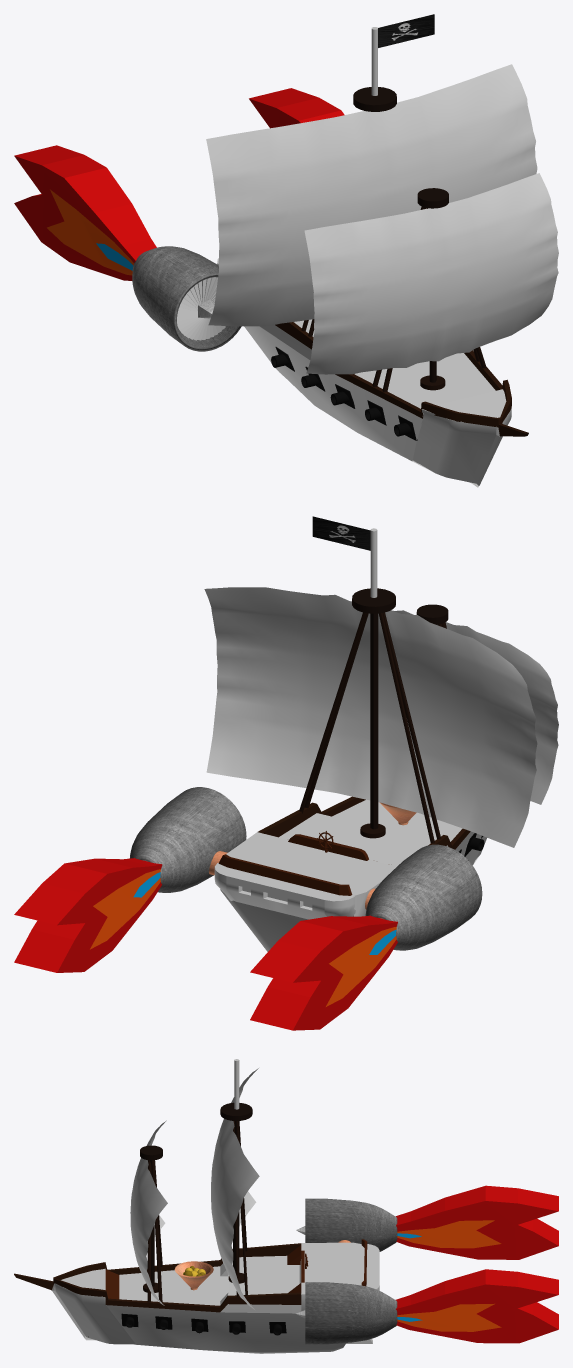
File: ship.obj
3 views of the same model, one above another, from view 1: azimuth 30°, elevation 25°; view 2: azimuth 150°, elevation 25°; view 3: azimuth 270°, elevation 25° (orthographic). The views are drawn at different scales.
Parts seen in each view (by area): view 1: pPlane14, pPlane13, boatBase, pPlane16, pCube109, pPlane15, pPipe118, pCube110, pCube2, pPlane8, pCylinder46, pCylinder4; view 2: pPlane14, pPlane16, boatBase, pCube109, pCube110, pPipe118, pPipe117, pPlane13, pCube20, pCylinder47, pCube8, pPlane15 (+7 smaller); view 3: boatBase, pCube110, pCube109, pPipe117, pPlane14, pPipe118, pPlane13, pPlane16, pCube2, pPlane15, pCube20, pCone3 (+3 smaller).
Part boxes in pixels (box(x1,y1,x2,y2)): pPlane14: box(206, 64, 537, 326); pPlane13: box(304, 173, 558, 374); boatBase: box(244, 319, 528, 487); pPlane16: box(207, 64, 536, 326); pCube109: box(14, 145, 156, 280); pPlane15: box(305, 174, 558, 374); pPipe118: box(132, 246, 241, 351); pCube110: box(249, 88, 344, 128); pCube2: box(421, 379, 511, 427); pPlane8: box(378, 16, 434, 47); pCylinder46: box(353, 87, 396, 111); pCylinder4: box(417, 188, 448, 208); pPlane14: box(204, 587, 537, 847); pPlane16: box(207, 587, 536, 845); boatBase: box(220, 796, 486, 951); pCube109: box(250, 915, 397, 1030); pCube110: box(14, 858, 162, 972); pPipe118: box(365, 844, 482, 950); pPipe117: box(129, 787, 246, 892); pPlane13: box(393, 610, 558, 804); pCube20: box(214, 863, 355, 919); pCylinder47: box(370, 613, 378, 829); pCube8: box(218, 854, 352, 895); pPlane15: box(397, 611, 558, 803); boatBase: box(14, 1242, 367, 1353); pCube110: box(396, 1269, 558, 1343); pCube109: box(396, 1185, 558, 1259); pPipe117: box(305, 1282, 397, 1344); pPlane14: box(211, 1068, 259, 1309); pPipe118: box(305, 1198, 397, 1251); pPlane13: box(130, 1120, 167, 1305); pPlane16: box(211, 1071, 256, 1306); pCube2: box(53, 1262, 108, 1300); pPlane15: box(130, 1122, 166, 1305); pCube20: box(363, 1244, 379, 1290); pCone3: box(174, 1261, 213, 1288).
Size of the model in its own units: 16.4 by 19.1 by 33.34.
